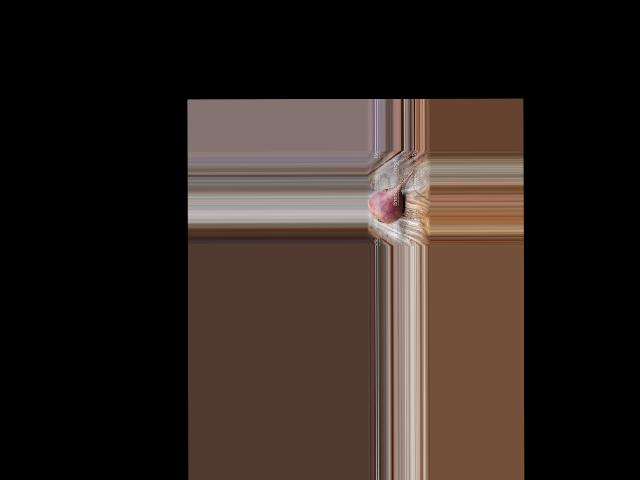beet: (368, 170, 414, 223)
